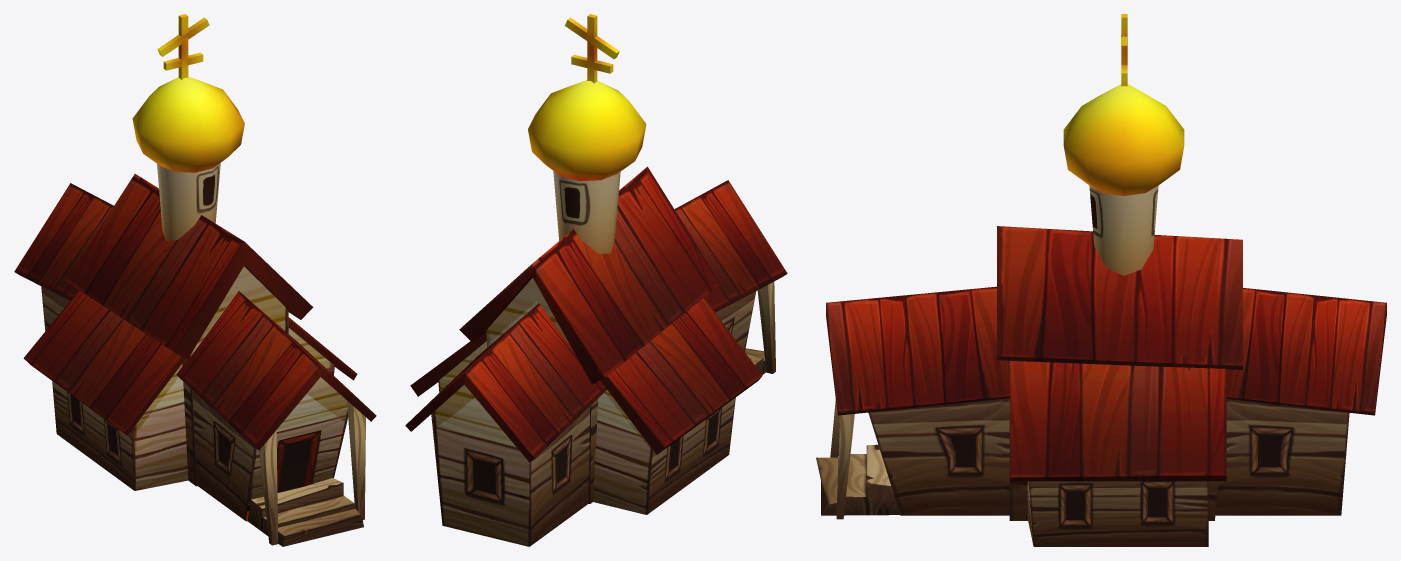
The model's file is Cerkov.fbx.
3 renders of one model, left to right at view 1: azimuth 30°, elevation 25°; view 2: azimuth 150°, elevation 25°; view 3: azimuth 270°, elevation 25°, orthographic. The views are drawn at different scales.
Parts seen in each view (by area): view 1: Cerkov; view 2: Cerkov; view 3: Cerkov.
Part boxes in pixels (x1=…): Cerkov: x1=14, y1=14, x2=376, y2=546; Cerkov: x1=405, y1=14, x2=787, y2=546; Cerkov: x1=816, y1=14, x2=1386, y2=546.
Size of the model in its own units: 17.97 by 30.17 by 32.83.
